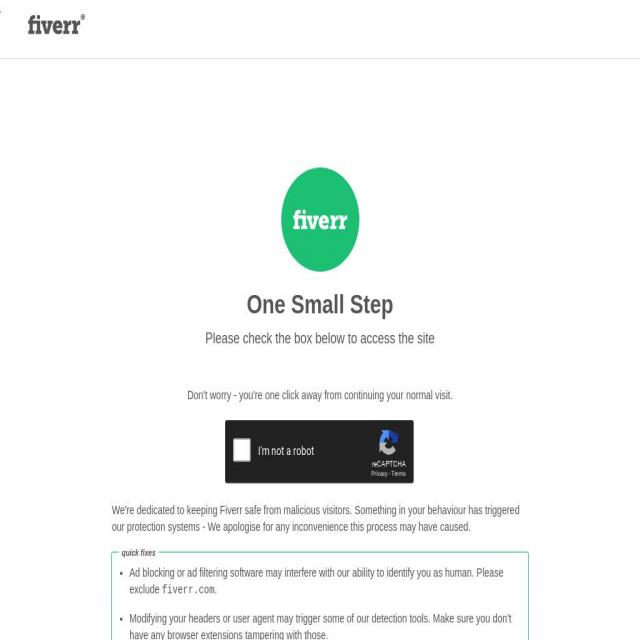captcha: (215, 410, 426, 493)
